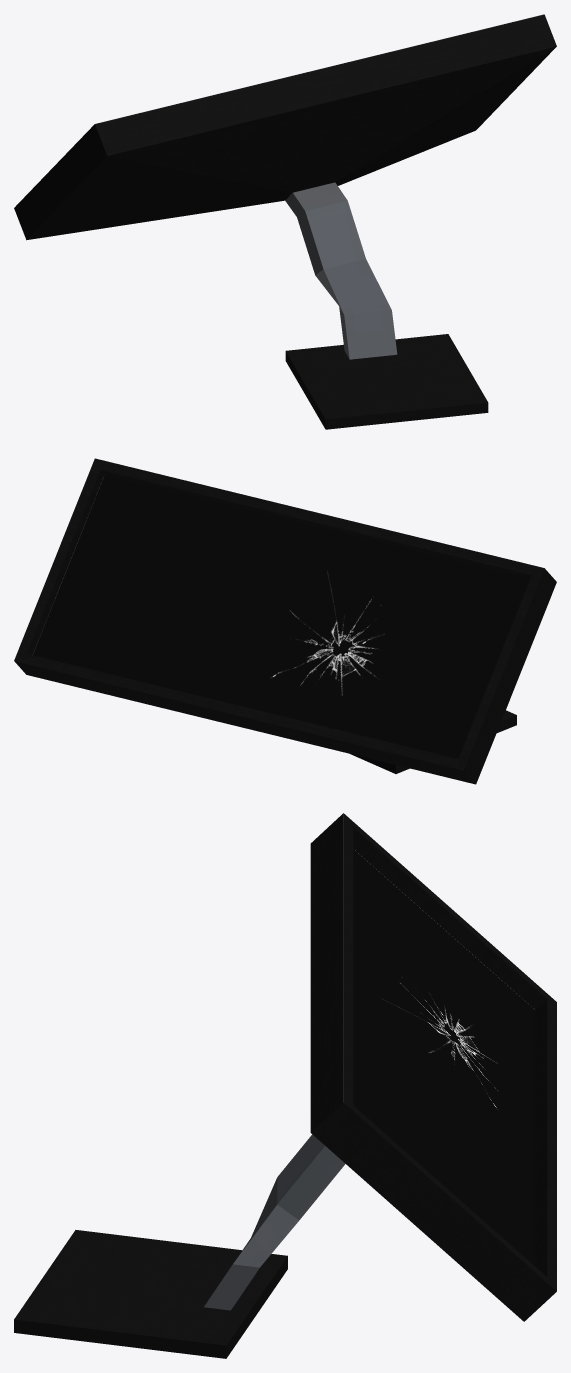
Rendered from Monitor Broken.FBX.
The picture shows the model from 3 angles, top to bottom: view 1: azimuth 30°, elevation 25°; view 2: azimuth 150°, elevation 25°; view 3: azimuth 270°, elevation 25°; orthographic projection. The views are drawn at different scales.
Parts seen in each view (by area): view 1: PC Monitor_Broken; view 2: PC Monitor_Broken; view 3: PC Monitor_Broken.
Part boxes in pixels (x1,y1,x2,y2): PC Monitor_Broken: (14,14,556,429); PC Monitor_Broken: (14,458,556,784); PC Monitor_Broken: (14,813,556,1358).
Size of the model in its own units: 36.59 by 20.45 by 29.
1 material, 1 textured.
